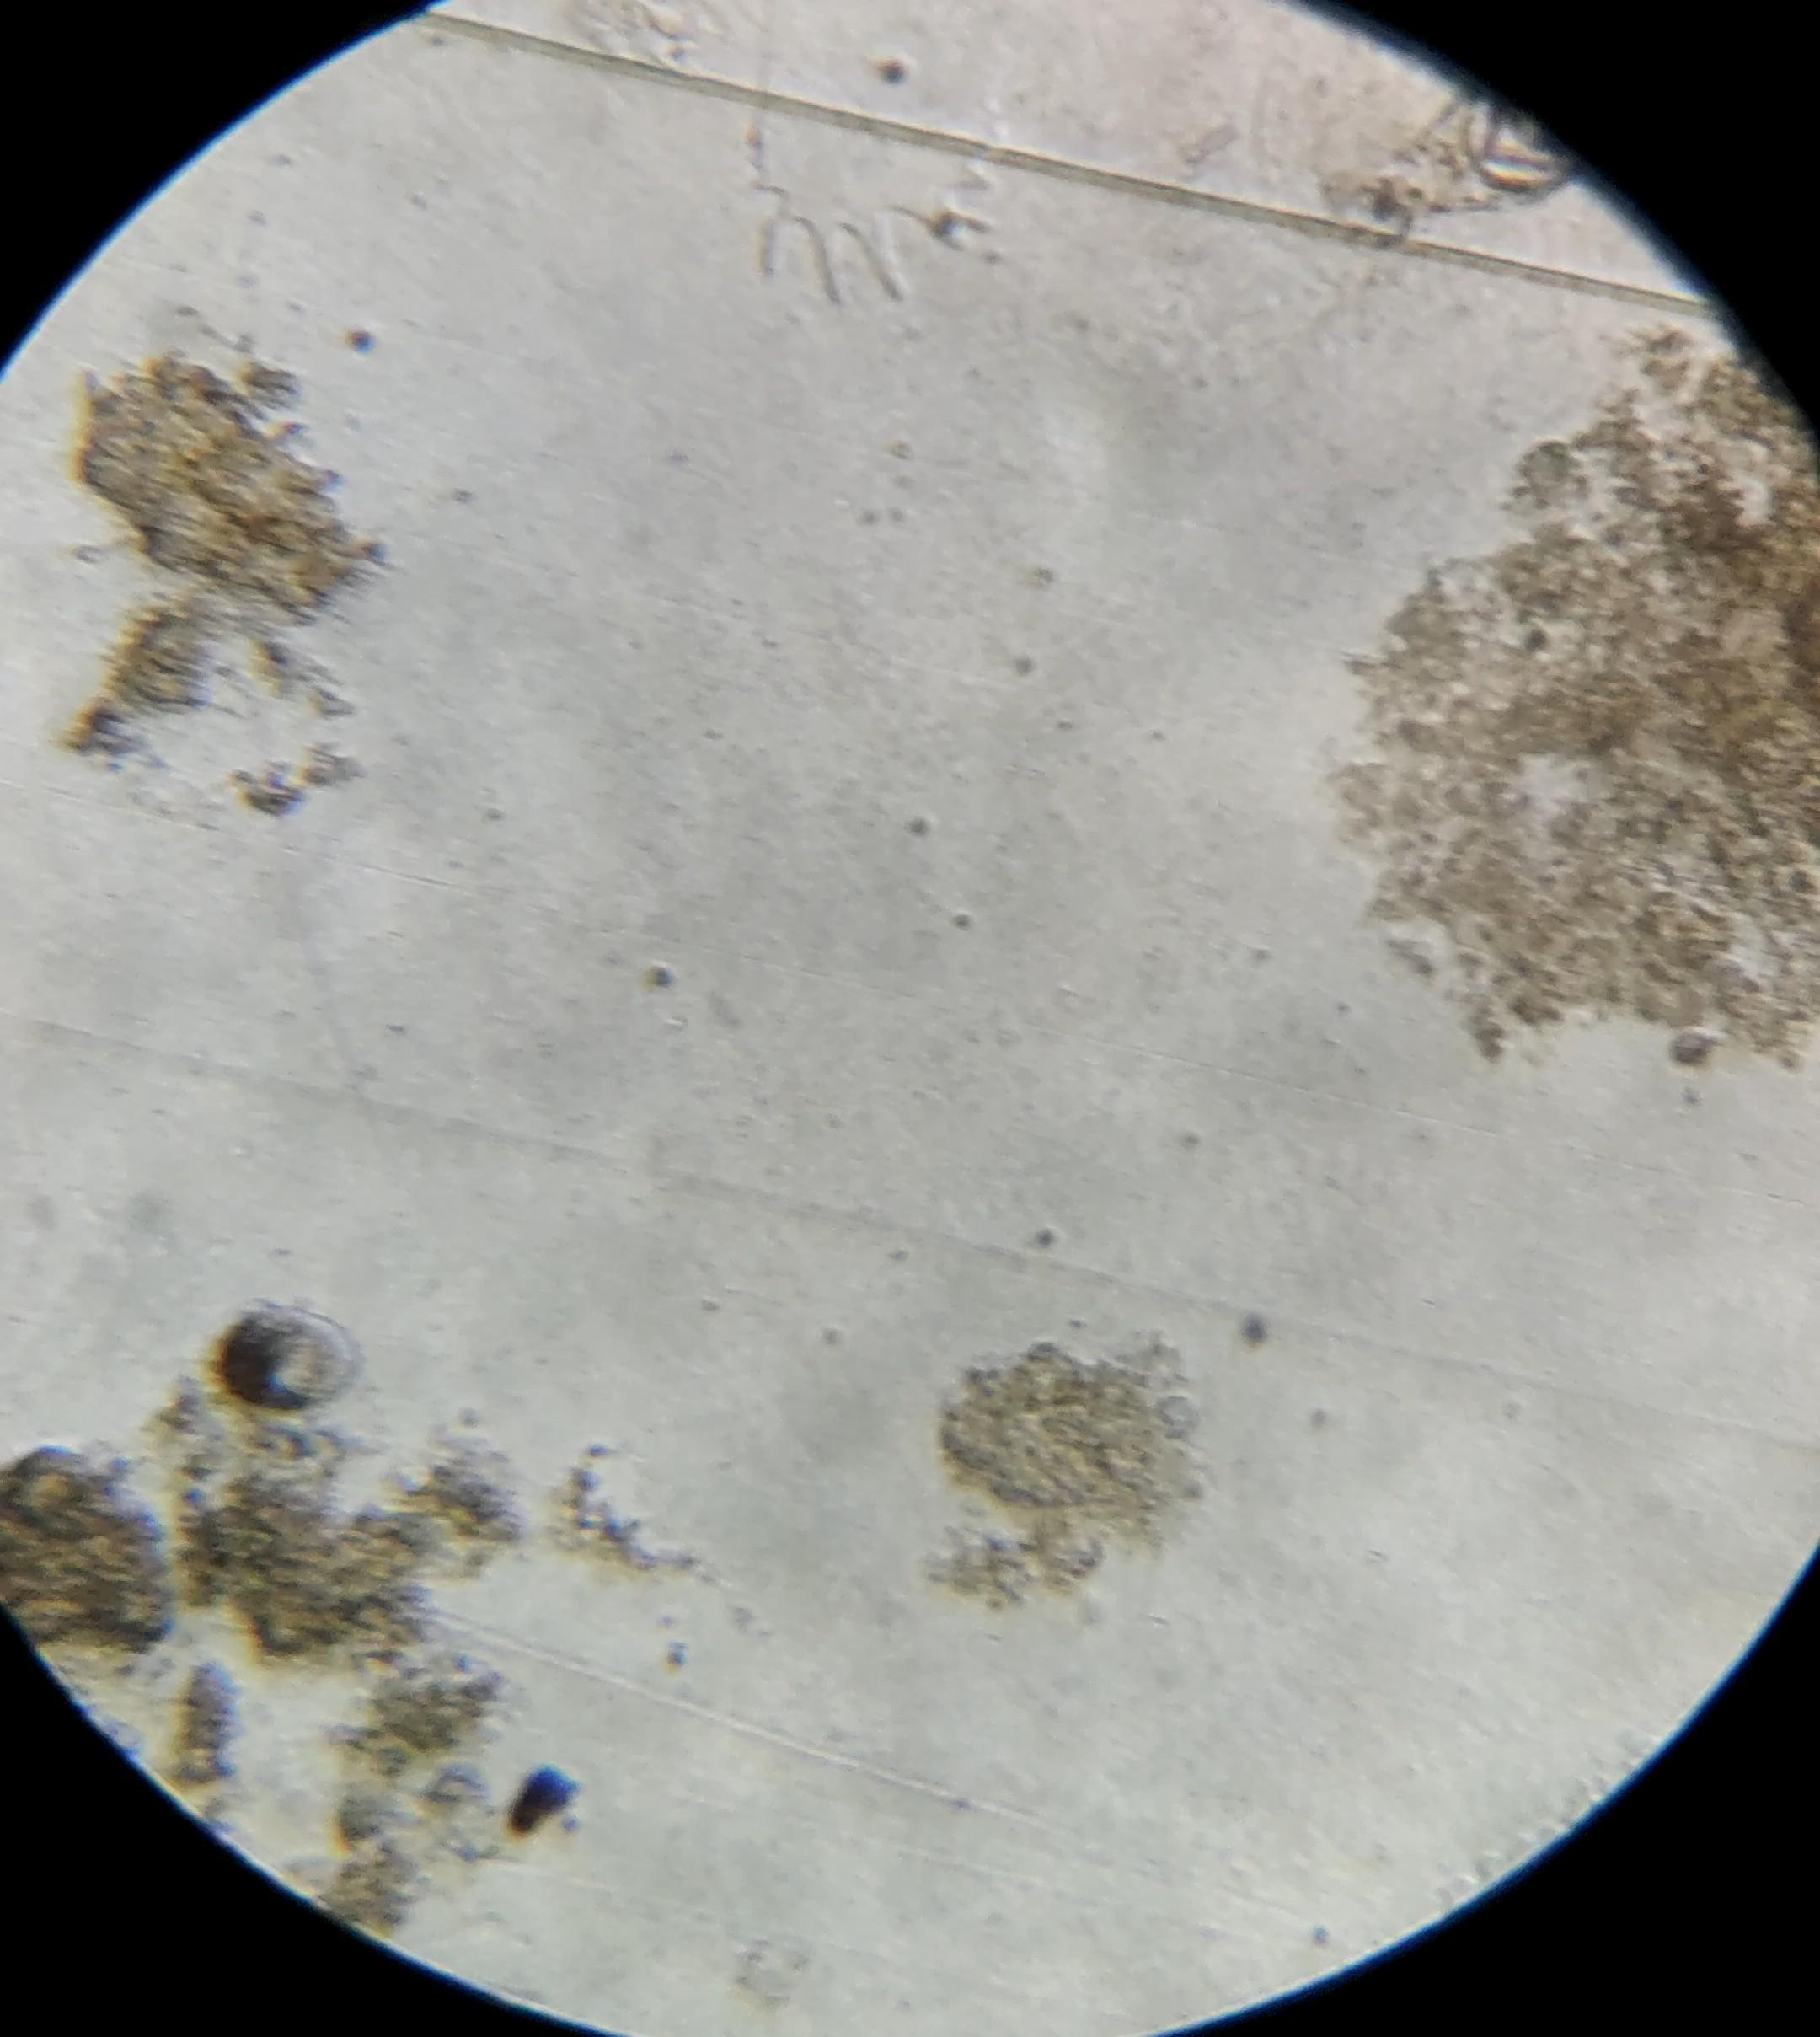Mo: (1388, 86, 1585, 214)
